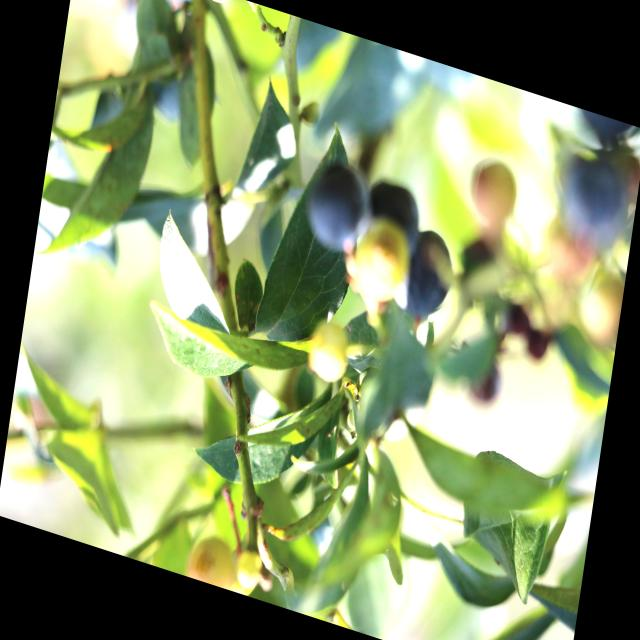blueberry: (552, 142, 640, 266), (299, 146, 382, 268), (384, 212, 465, 332), (357, 167, 429, 269)
blueberry-unripe: (349, 218, 414, 306), (462, 150, 522, 237), (183, 521, 240, 591), (306, 316, 352, 388)
